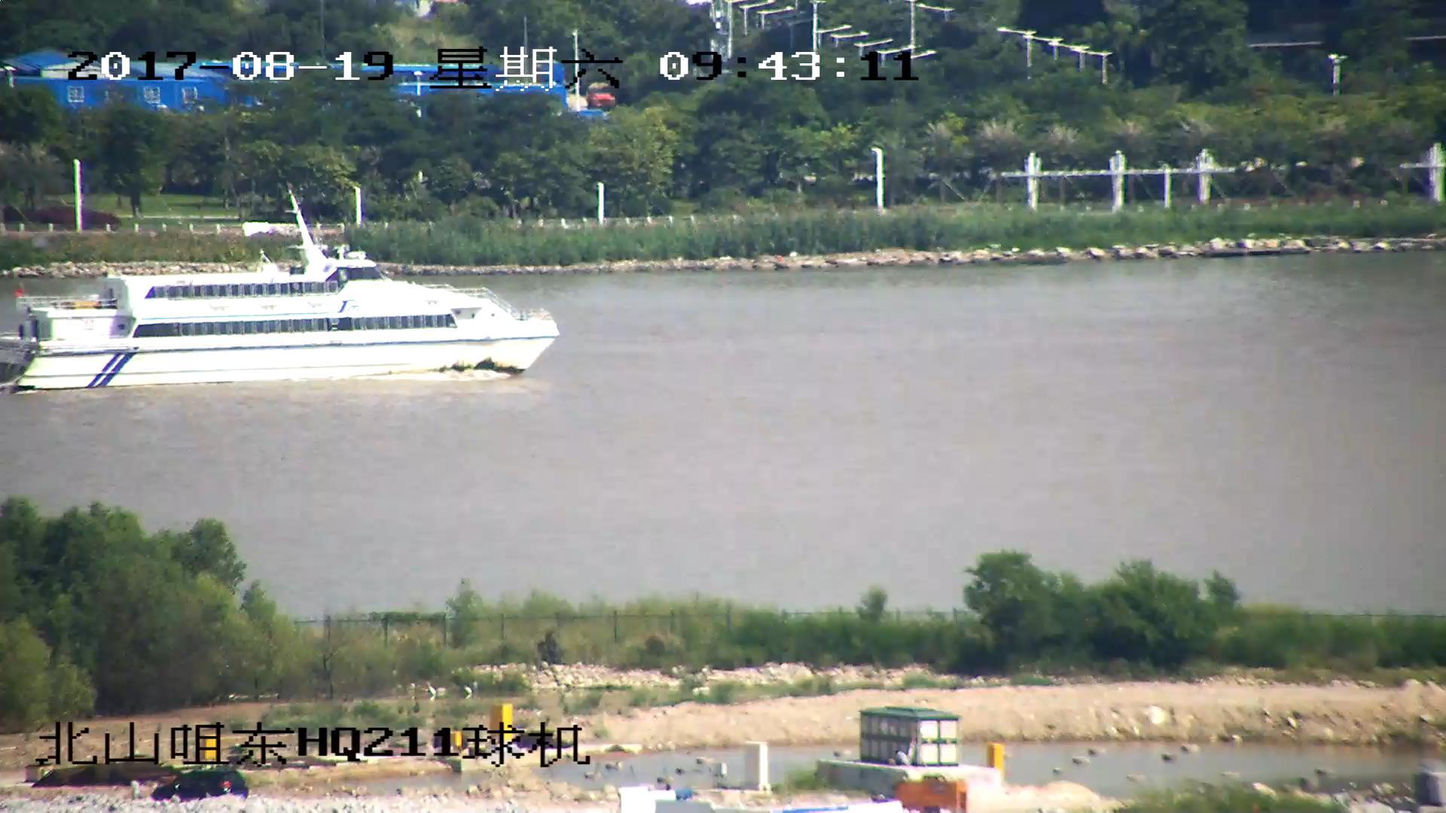passenger ship: (0, 192, 560, 387)
